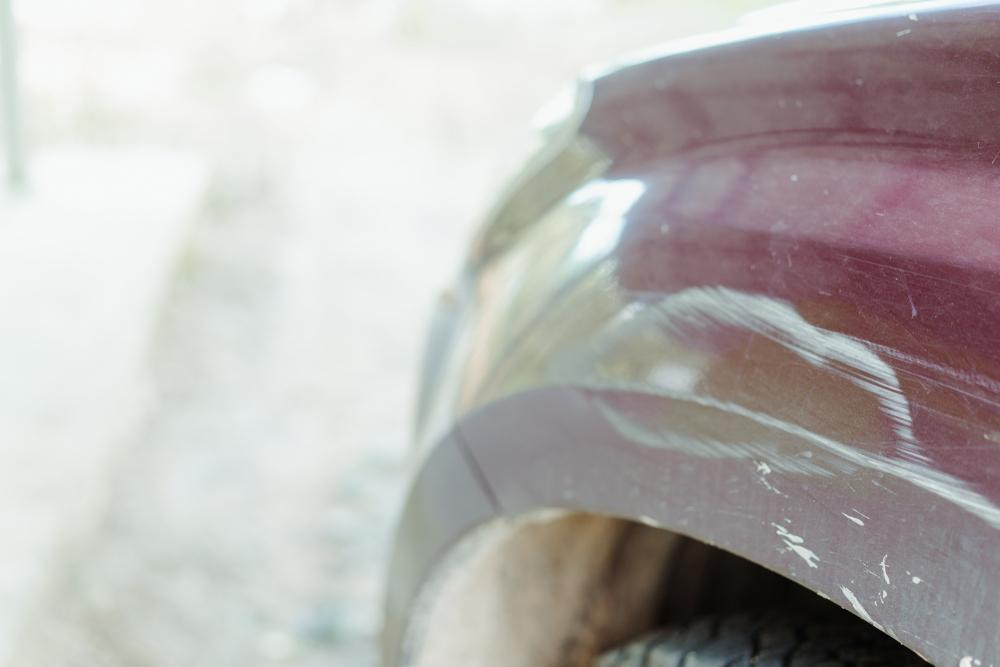scratch: (563, 286, 1000, 533)
